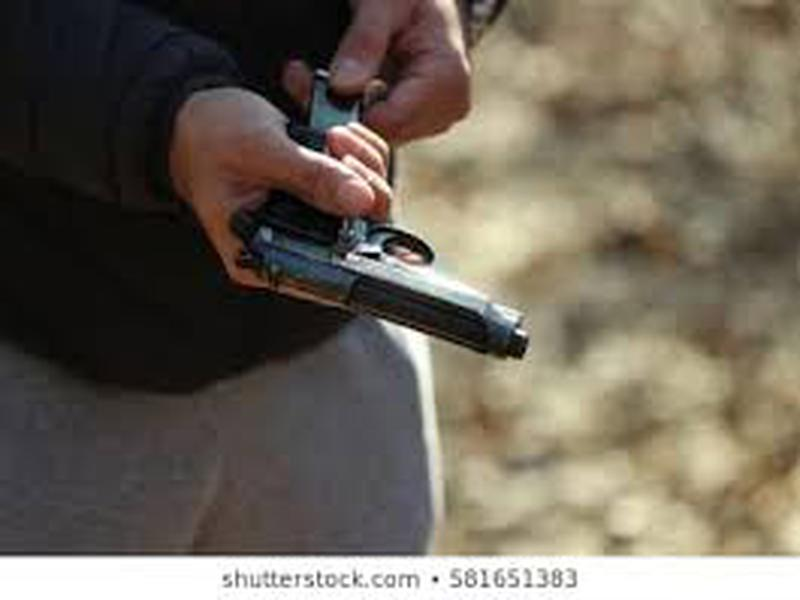gun: (164, 47, 539, 366)
